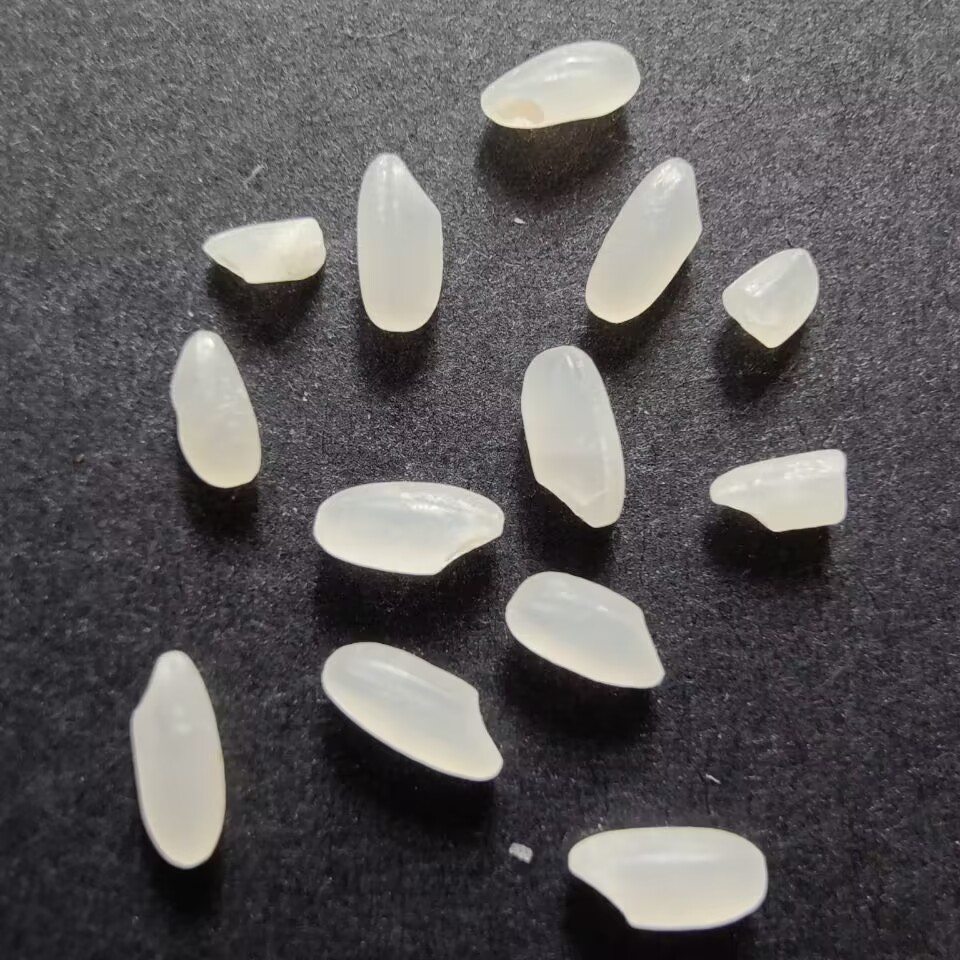broken: (707, 443, 853, 540), (722, 241, 822, 351), (198, 210, 330, 289)
rice: (317, 638, 506, 785), (124, 641, 228, 874), (561, 823, 771, 935), (501, 569, 676, 695), (582, 150, 707, 324), (516, 343, 628, 531), (309, 477, 508, 582), (348, 149, 448, 334), (475, 36, 644, 133), (167, 326, 263, 492)
